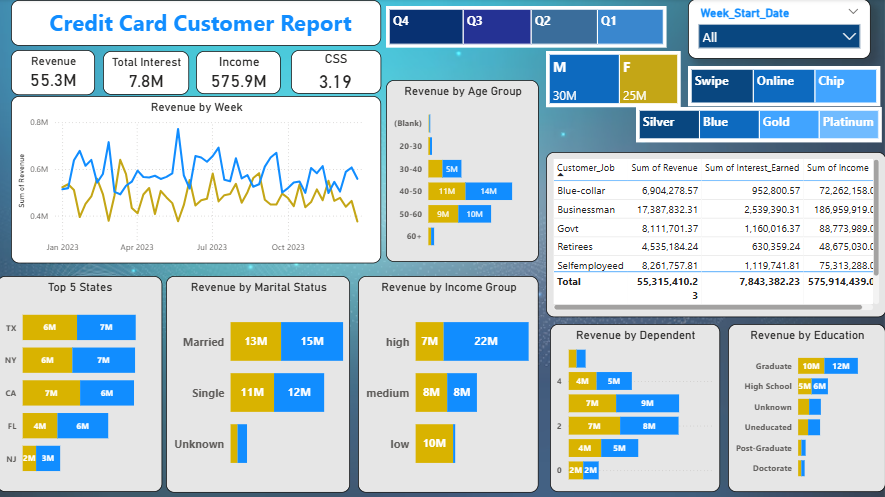

This screenshot's page, from the dashboard's own definition file:
{"tool":"powerbi","page":{"name":"cc costumer","canvas":[1280,720],"ordinal":1},"visuals":[{"type":"textbox","box":[20,1.4,532.9,65.7],"z":0},{"type":"barChart","title":"Revenue by Income Group","fields":{"Y":["Sum(ccdb credit_card.Revenue)"],"Category":["ccdb customer.income_group"],"Series":["ccdb customer.Gender"]},"box":[520,398.3,260,311.7],"z":1000},{"type":"tableEx","fields":{"Values":["ccdb customer.Customer_Job","Sum(ccdb credit_card.Revenue)","Sum(ccdb credit_card.Interest_Earned)","Sum(ccdb customer.Income)"]},"box":[790,220,490,238.3],"z":2000},{"type":"slicer","fields":{"Values":["ccdb credit_card.Week_Start_Date"]},"box":[995.7,0,262.9,85.7],"z":3000},{"type":"treemap","fields":{"Group":["ccdb credit_card.Qtr"],"Values":["Avg(ccdb credit_card.Client_Num)"]},"box":[560,10,404.3,60],"z":4000},{"type":"treemap","fields":{"Group":["ccdb credit_card.Card_Category"],"Values":["Avg(ccdb credit_card.Client_Num)"]},"box":[919.7,155.7,354.1,50.8],"z":5000},{"type":"treemap","fields":{"Group":["ccdb credit_card.Use_Chip"],"Values":["Avg(ccdb credit_card.Client_Num)"]},"box":[995,96.7,276.7,58.3],"z":6000},{"type":"card","title":"Revenue","fields":{"Values":["Sum(ccdb credit_card.Revenue)"]},"box":[20.2,73.4,121,64.8],"z":7000},{"type":"card","title":"Total Interest","fields":{"Values":["Sum(ccdb credit_card.Interest_Earned)"]},"box":[152.6,74.9,123.8,63.4],"z":8000},{"type":"card","title":"Income","fields":{"Values":["Sum(ccdb customer.Income)"]},"box":[286.6,74.9,122.4,61.9],"z":9000},{"type":"card","title":"CSS","fields":{"Values":["Avg(ccdb customer.Cust_Satisfaction_Score)"]},"box":[423.4,73.4,129.6,63.4],"z":10000},{"type":"lineChart","title":"Revenue by Week","fields":{"Y":["Sum(ccdb credit_card.Revenue)"],"Series":["ccdb customer.Gender"],"Category":["ccdb credit_card.Week_Start_Date.Variation.Date Hierarchy.Year","ccdb credit_card.Week_Start_Date.Variation.Date Hierarchy.Month","ccdb credit_card.Week_Start_Date.Variation.Date Hierarchy.Day"]},"box":[19.7,139.3,532.8,241],"z":11000},{"type":"treemap","fields":{"Group":["ccdb customer.Gender"],"Values":["Sum(ccdb credit_card.Revenue)"]},"box":[790.6,74.9,194.4,80.6],"z":12000},{"type":"barChart","title":"Revenue by Age Group","fields":{"Y":["Sum(ccdb credit_card.Revenue)"],"Category":["ccdb customer.age group"],"Series":["ccdb customer.Gender"]},"box":[560,116.7,220,261.7],"z":13000},{"type":"barChart","title":"Revenue by Dependent","fields":{"Y":["Sum(ccdb credit_card.Revenue)"],"Category":["ccdb customer.Dependent_Count"],"Series":["ccdb customer.Gender"]},"box":[796.7,468.3,245,241.7],"z":14000},{"type":"barChart","title":"Revenue by Education","fields":{"Y":["Sum(ccdb credit_card.Revenue)"],"Category":["ccdb customer.Education_Level"],"Series":["ccdb customer.Gender"]},"box":[1053.3,468.3,226.7,241.7],"z":15000},{"type":"barChart","title":"Top 5 States","fields":{"Y":["Sum(ccdb credit_card.Revenue)"],"Category":["ccdb customer.state_cd"],"Series":["ccdb customer.Gender"]},"box":[0,398.9,237.6,311],"z":16000},{"type":"barChart","title":"Revenue by Marital Status","fields":{"Y":["Sum(ccdb credit_card.Revenue)"],"Category":["ccdb customer.Marital_Status"],"Series":["ccdb customer.Gender"]},"box":[243.3,398.3,265,311.7],"z":17000}]}

Visuals, with their boxes in screenshot pixels (x1, y1, x2, y2), scaled from the page's 1280x720 canvas onto the 885x497 screenshot:
textbox: rect(14, 1, 382, 46)
"Revenue by Income Group" barChart: rect(360, 275, 539, 490)
tableEx - ccdb customer.Customer_Job x Sum(ccdb credit_card.Revenue): rect(546, 152, 884, 316)
slicer - ccdb credit_card.Week_Start_Date: rect(688, 0, 870, 59)
treemap - ccdb credit_card.Qtr x Avg(ccdb credit_card.Client_Num): rect(387, 7, 667, 48)
treemap - ccdb credit_card.Card_Category x Avg(ccdb credit_card.Client_Num): rect(636, 107, 881, 143)
treemap - ccdb credit_card.Use_Chip x Avg(ccdb credit_card.Client_Num): rect(688, 67, 879, 107)
"Revenue" card: rect(14, 51, 98, 95)
"Total Interest" card: rect(106, 52, 191, 95)
"Income" card: rect(198, 52, 283, 94)
"CSS" card: rect(293, 51, 382, 94)
"Revenue by Week" lineChart: rect(14, 96, 382, 263)
treemap - ccdb customer.Gender x Sum(ccdb credit_card.Revenue): rect(547, 52, 681, 107)
"Revenue by Age Group" barChart: rect(387, 81, 539, 261)
"Revenue by Dependent" barChart: rect(551, 323, 720, 490)
"Revenue by Education" barChart: rect(728, 323, 884, 490)
"Top 5 States" barChart: rect(0, 275, 164, 490)
"Revenue by Marital Status" barChart: rect(168, 275, 351, 490)
